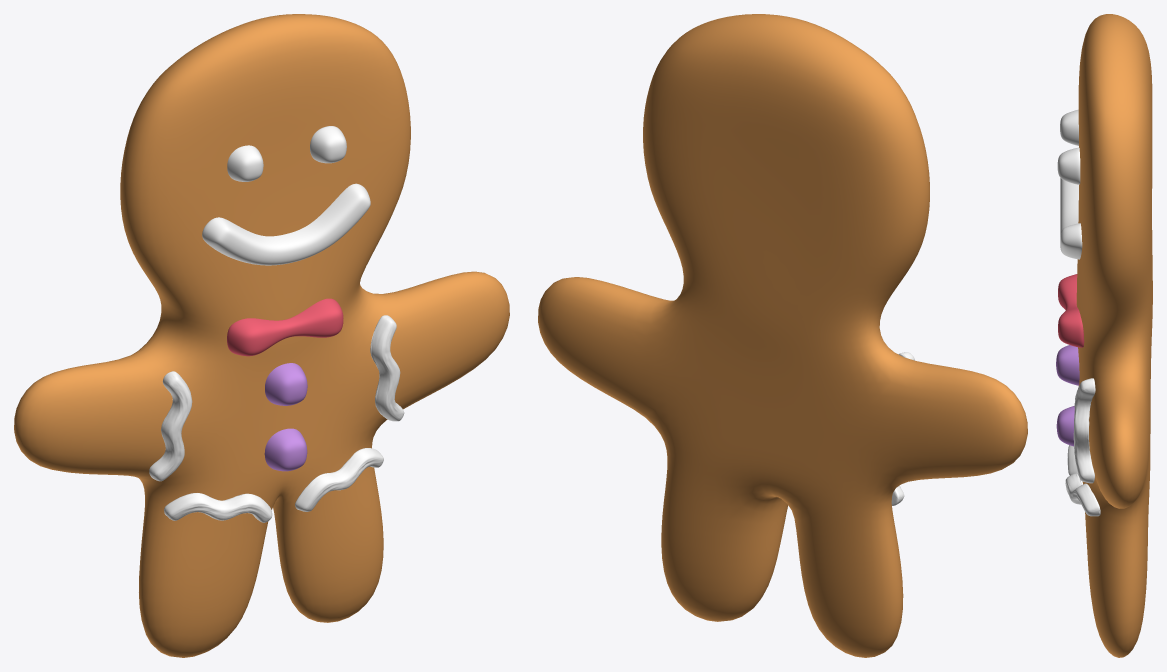
Rendered from Gingie.fbx.
3 renders of one model, left to right at view 1: azimuth 30°, elevation 25°; view 2: azimuth 150°, elevation 25°; view 3: azimuth 270°, elevation 25°, orthographic. The views are drawn at different scales.
Visible parts, largest first — view 1: Body, Mouth, Papillon, Pattern.001, Pattern.002, Pattern.004, Pattern.003, Button.001, Button.002, EyeRight, EyeLeft; view 2: Body; view 3: Body, Pattern.002, Mouth, Papillon, Pattern.003, Button.001, EyeRight, Button.002, EyeLeft, Pattern.004.
Part boxes in pixels (bbox=[...]): Body: bbox=[14, 14, 509, 657]; Mouth: bbox=[202, 183, 370, 265]; Papillon: bbox=[227, 298, 343, 356]; Pattern.001: bbox=[149, 371, 192, 481]; Pattern.002: bbox=[370, 315, 404, 421]; Pattern.004: bbox=[164, 493, 272, 522]; Pattern.003: bbox=[295, 448, 383, 511]; Button.001: bbox=[265, 363, 307, 405]; Button.002: bbox=[264, 428, 307, 471]; EyeRight: bbox=[310, 126, 346, 163]; EyeLeft: bbox=[227, 145, 263, 181]; Body: bbox=[538, 14, 1027, 657]; Body: bbox=[1076, 14, 1152, 657]; Pattern.002: bbox=[1073, 378, 1095, 483]; Mouth: bbox=[1060, 178, 1082, 259]; Papillon: bbox=[1058, 274, 1084, 347]; Pattern.003: bbox=[1065, 473, 1100, 516]; Button.001: bbox=[1056, 345, 1079, 385]; EyeRight: bbox=[1057, 147, 1080, 184]; Button.002: bbox=[1056, 406, 1074, 446]; EyeLeft: bbox=[1060, 109, 1078, 145]; Pattern.004: bbox=[1067, 445, 1078, 475].
Size of the model in its own units: 396 by 478 by 71.27.
